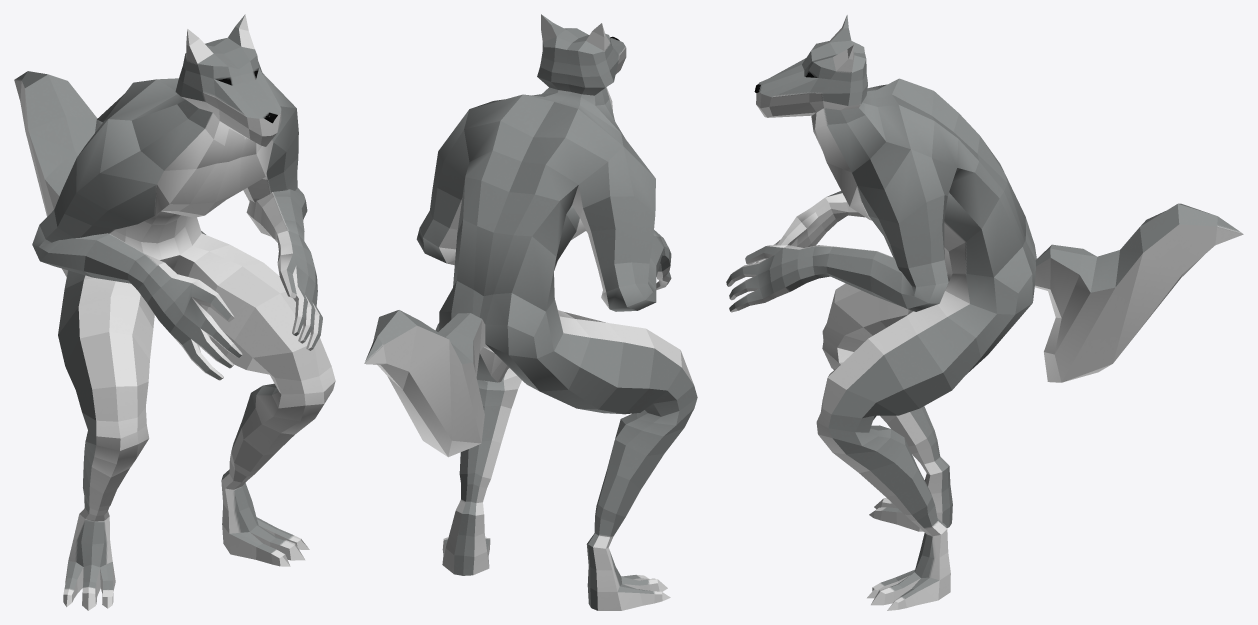
Rendered from WolfIdle_(7).obj.
3 renders of one model, left to right at view 1: azimuth 30°, elevation 25°; view 2: azimuth 150°, elevation 25°; view 3: azimuth 270°, elevation 25°, orthographic. The views are drawn at different scales.
Parts seen in each view (by area): view 1: Box001; view 2: Box001; view 3: Box001.
Boxes of the visible parts, x1,y1,x2,y2 form: Box001: [14, 14, 335, 610]; Box001: [364, 14, 697, 610]; Box001: [726, 15, 1243, 610].
Size of the model in its own units: 61.33 by 131 by 115.
